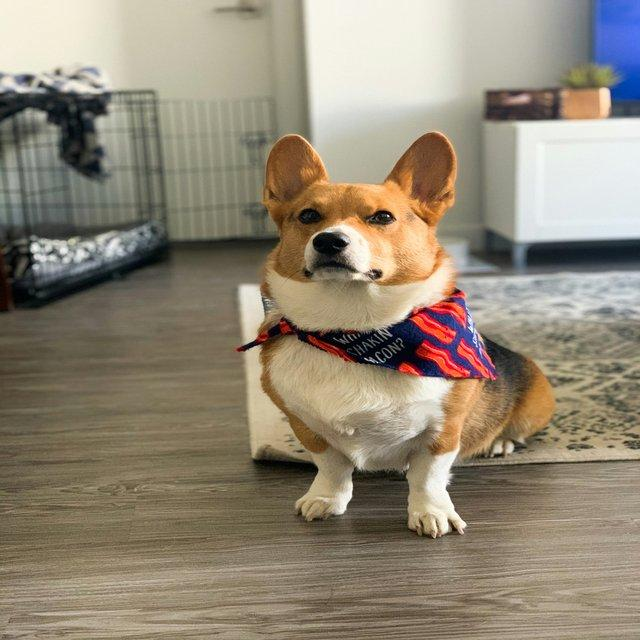corgi: (250, 128, 556, 539)
